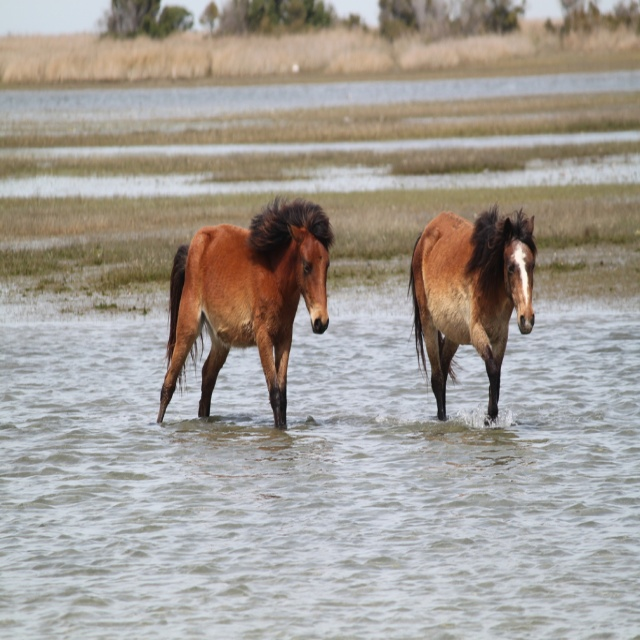Horse: (157, 193, 338, 422), (408, 201, 541, 424)
